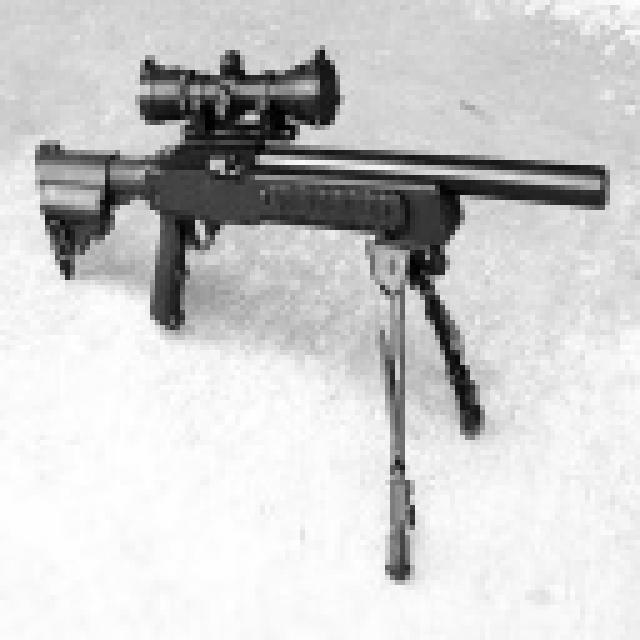Rifle: (8, 31, 629, 599)
